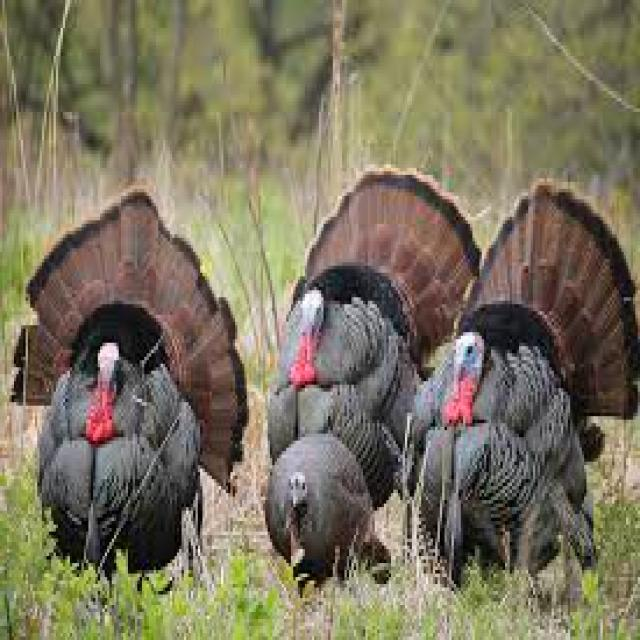turkey: (14, 189, 249, 577), (417, 182, 640, 581), (270, 168, 479, 504)
